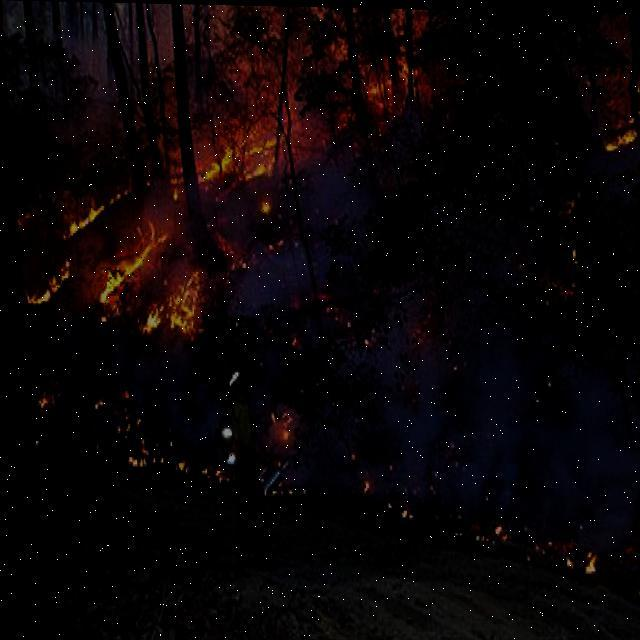Fire: (92, 227, 208, 340), (187, 119, 286, 185)
